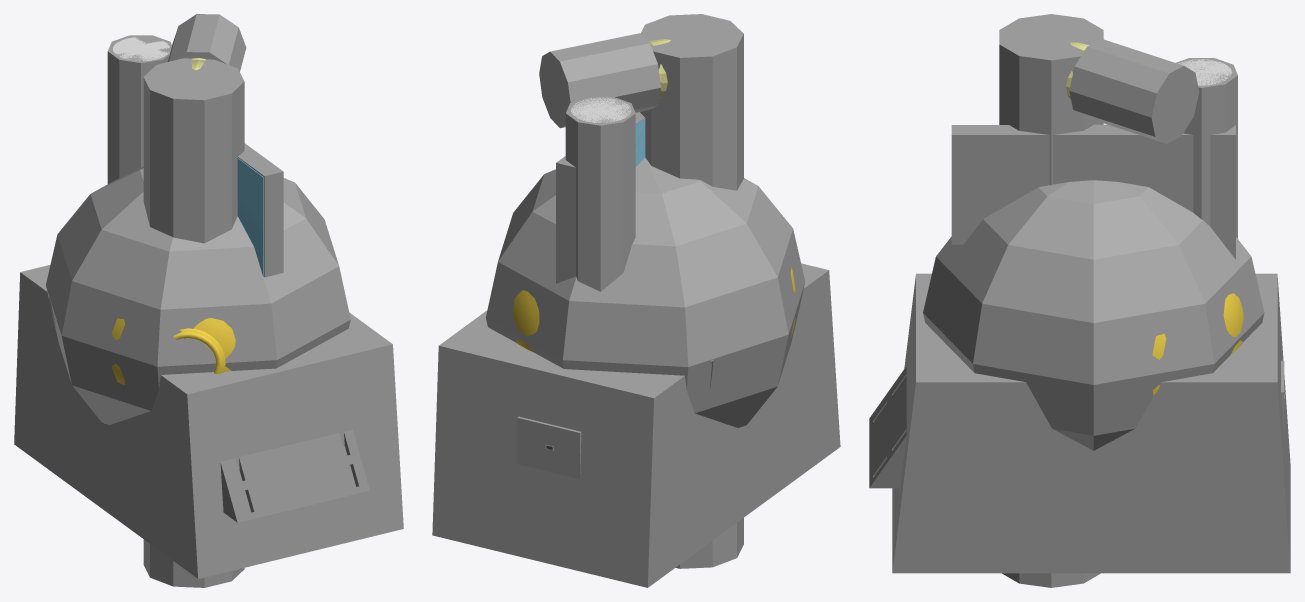
File: Machine_07.fbx
3 views of the same model, side by side, from view 1: azimuth 30°, elevation 25°; view 2: azimuth 150°, elevation 25°; view 3: azimuth 270°, elevation 25° (orthographic). The views are drawn at different scales.
Visible parts, largest first — view 1: colider_Soba1, col__Power, colider_pipe2, Base2, colidersoba2, colider_pipe1, Mother1Colider, motherboard, polySurface5; view 2: colider_Soba1, col__Power, colider_pipe2, colidersoba2, colider_pipe1, Base2, Mother1Col_der, polySurface5; view 3: colider_Soba1, col__Power, colider_pipe2, Mother1Col_der, colider_pipe1, Mother1Colider, Base2, colidersoba2, polySurface5.
Part boxes in pixels (left/top/right/bottom): colider_Soba1: left=14, top=265, right=403, bottom=578; col__Power: left=46, top=167, right=350, bottom=424; colider_pipe2: left=143, top=58, right=244, bottom=587; Base2: left=113, top=37, right=369, bottom=522; colidersoba2: left=107, top=35, right=171, bottom=183; colider_pipe1: left=167, top=14, right=246, bottom=71; Mother1Colider: left=238, top=143, right=283, bottom=277; motherboard: left=237, top=158, right=263, bottom=276; polySurface5: left=49, top=297, right=235, bottom=384; colider_Soba1: left=432, top=263, right=840, bottom=587; col__Power: left=486, top=157, right=805, bottom=427; colider_pipe2: left=640, top=14, right=743, bottom=568; colidersoba2: left=565, top=96, right=635, bottom=291; colider_pipe1: left=539, top=33, right=660, bottom=128; Base2: left=517, top=97, right=631, bottom=479; Mother1Col_der: left=556, top=112, right=644, bottom=283; polySurface5: left=512, top=268, right=795, bottom=388; colider_Soba1: left=892, top=273, right=1290, bottom=573; col__Power: left=923, top=180, right=1264, bottom=450; colider_pipe2: left=999, top=14, right=1103, bottom=587; Mother1Col_der: left=1065, top=124, right=1235, bottom=259; colider_pipe1: left=1069, top=39, right=1199, bottom=143; Mother1Colider: left=951, top=125, right=1065, bottom=244; Base2: left=869, top=59, right=1284, bottom=488; colidersoba2: left=1175, top=58, right=1237, bottom=238; polySurface5: left=1152, top=293, right=1243, bottom=395.
Bounding box in the file's own units: 5.16 × 8.94 × 6.36.
